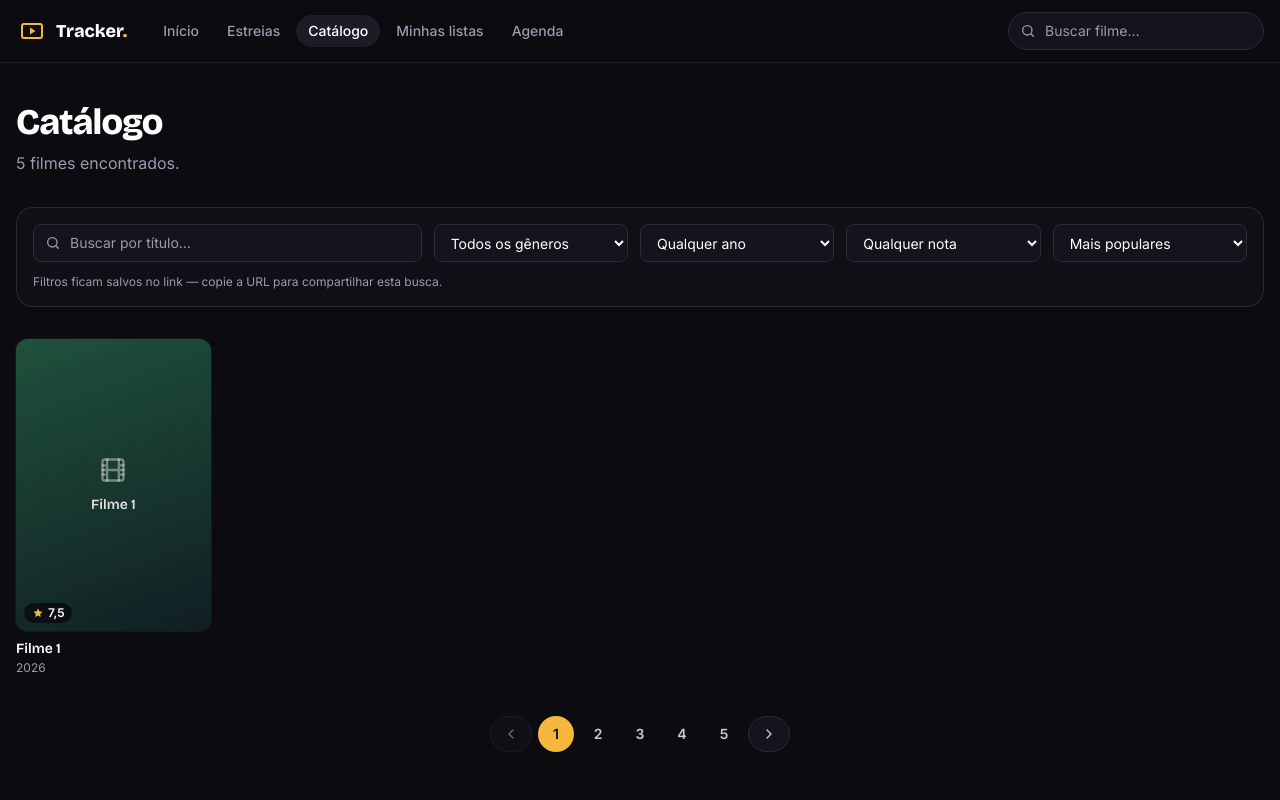
Scenario: Catálogo › mudar de página atualiza a URL
Expected: the heading "Filme 1" is shown, [16,640,61,657]
Click the button named "Próxima página" at (769, 734), box [748,716,790,752]
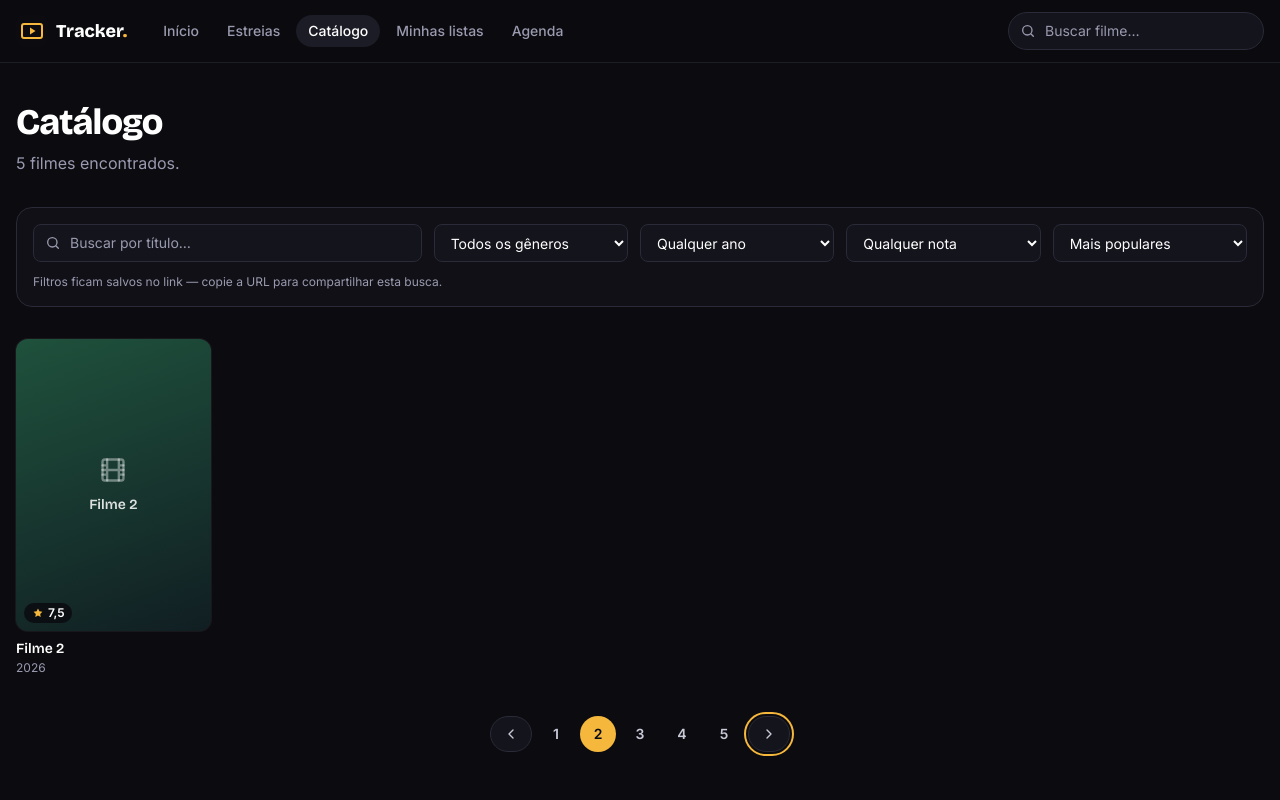
Result: the heading "Filme 2" is shown at [16,640,64,657]
